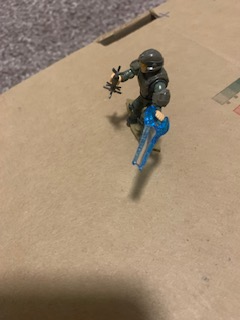soldier: (108, 47, 171, 171)
